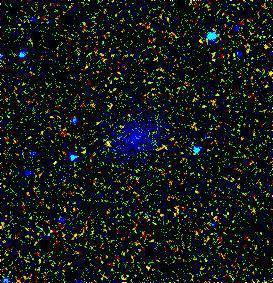star: (93, 129, 123, 159)
